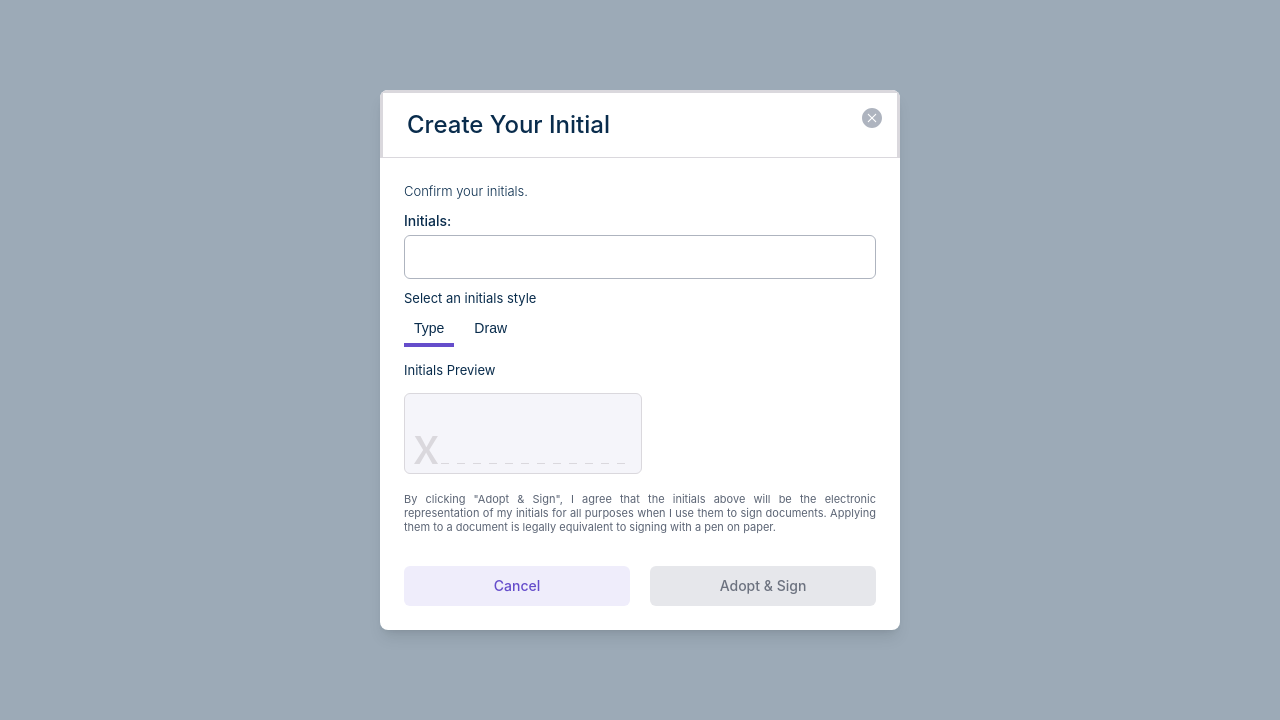
Test: InitialDialog › disables adopt until initials are entered
Expected: the button "Adopt & Sign" is disabled, [650,566,876,606]
In the field labelled "Initials:": (640, 256) [404,234,876,278], type "PT"
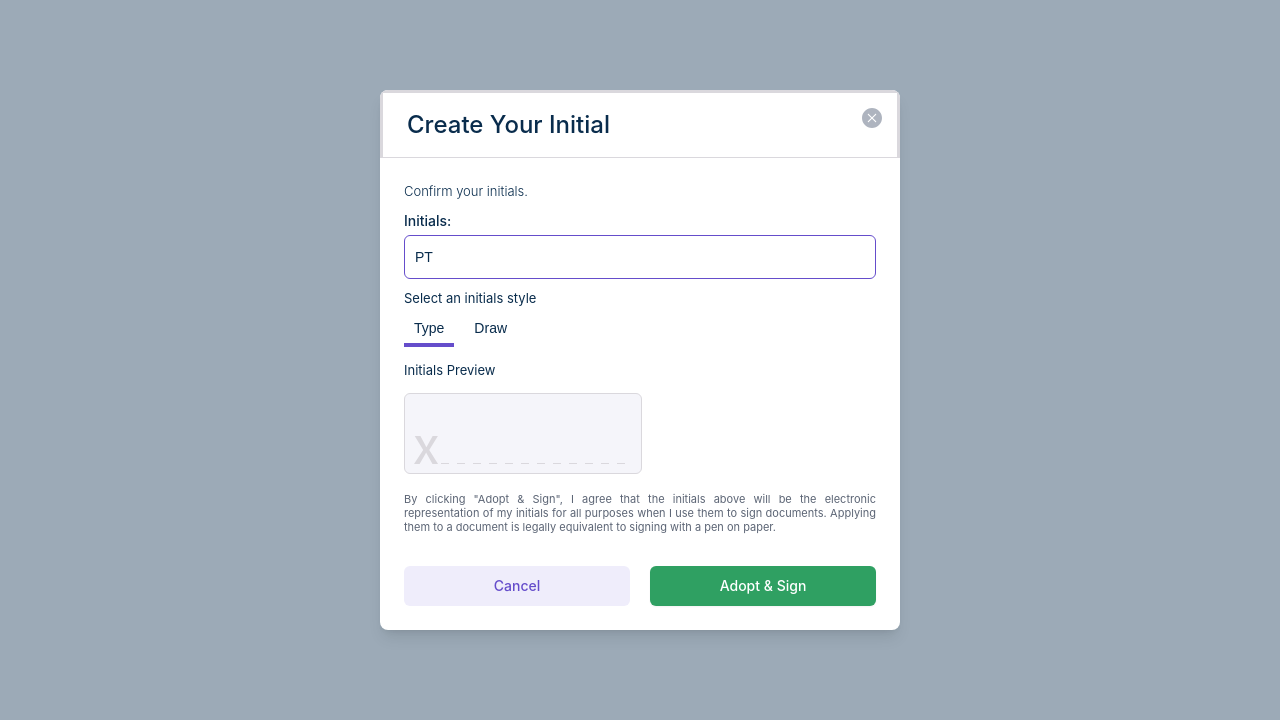
Now the button "Adopt & Sign" is enabled, box [650,566,876,606]
